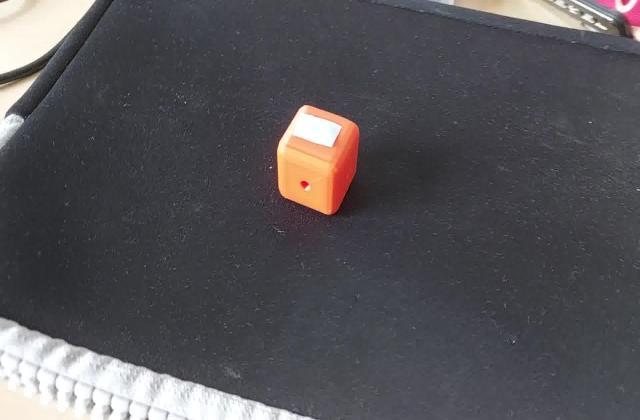sticker: (272, 100, 361, 220)
white: (298, 118, 347, 153)
